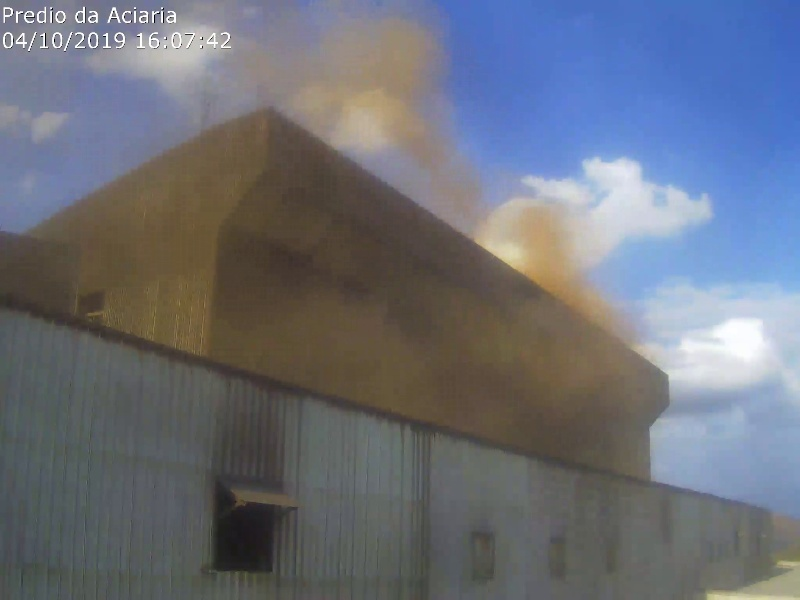bom: (663, 1, 800, 313)
pessimo: (263, 10, 468, 227), (242, 230, 465, 402), (100, 49, 240, 261), (498, 191, 643, 386)
